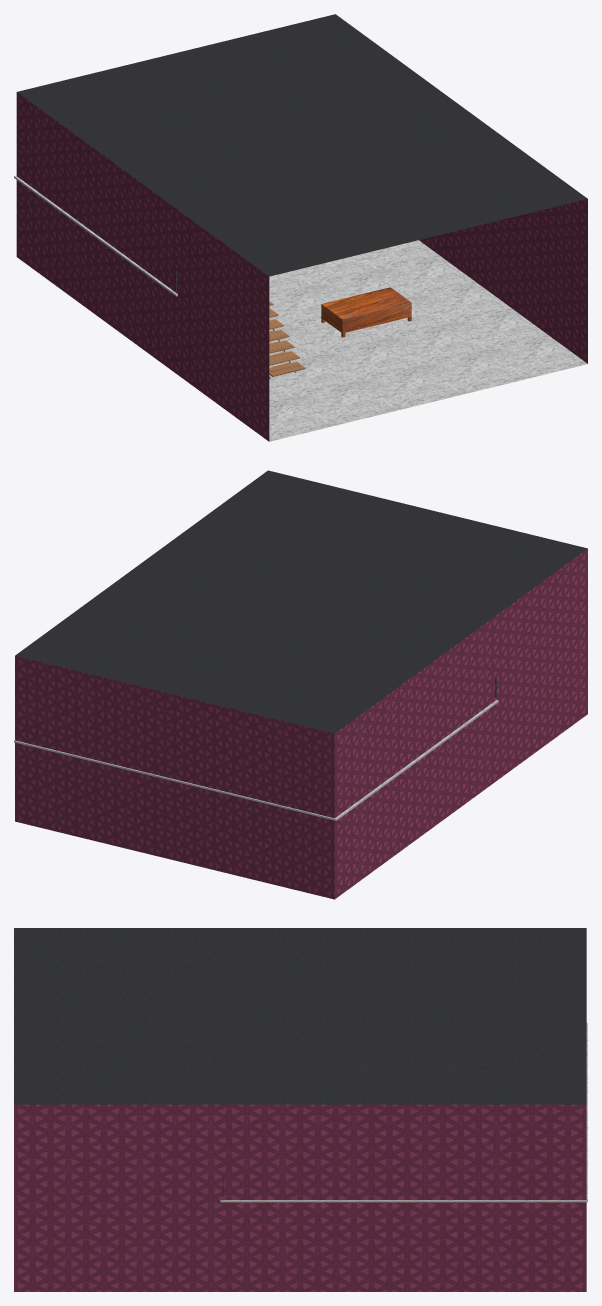
The model's file is ControlTower.fbx.
3 views of the same model, one above another, from view 1: azimuth 30°, elevation 25°; view 2: azimuth 150°, elevation 25°; view 3: azimuth 270°, elevation 25° (orthographic). The views are drawn at different scales.
Parts seen in each view (by area): view 1: pPlane1, pCube42, pCube17; view 2: pPlane1, pCube17; view 3: pPlane1, pCube17.
Boxes of the visible parts, x1,y1,x2,y2 form: pPlane1: (16, 14, 587, 441); pCube42: (321, 287, 411, 337); pCube17: (14, 175, 177, 296); pPlane1: (15, 470, 587, 899); pCube17: (14, 700, 498, 820); pPlane1: (14, 928, 586, 1291); pCube17: (220, 1022, 587, 1202).
Size of the model in its own units: 23.91 by 12.67 by 32.58.
